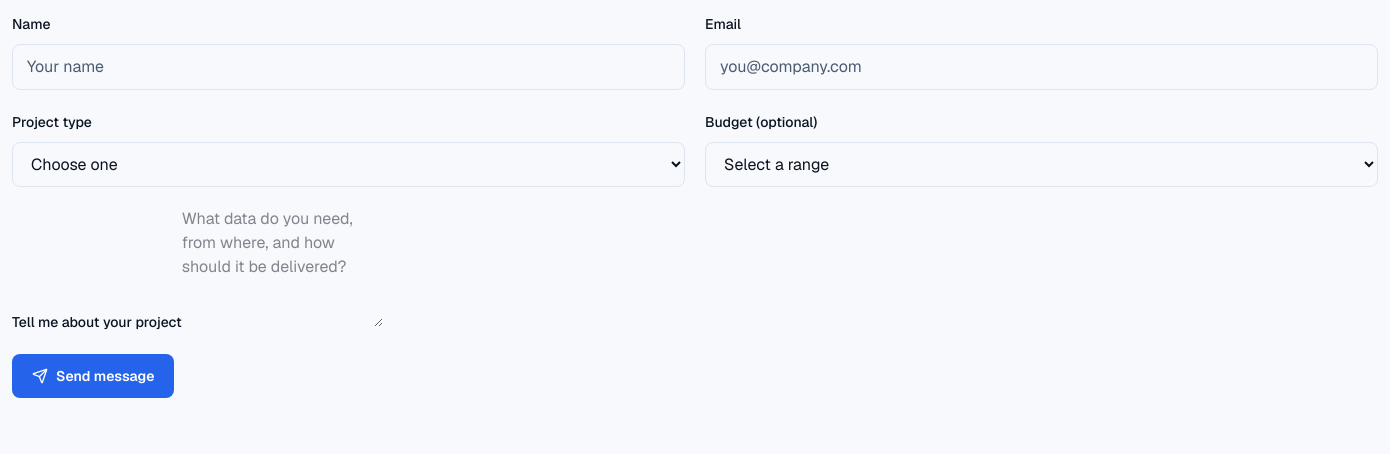
Test: ContactForm › falls back to the visitor's mail client when the server has no email configured
In the field labelled "Name": [348, 67] box [12,44,685,90], type "Test Person"
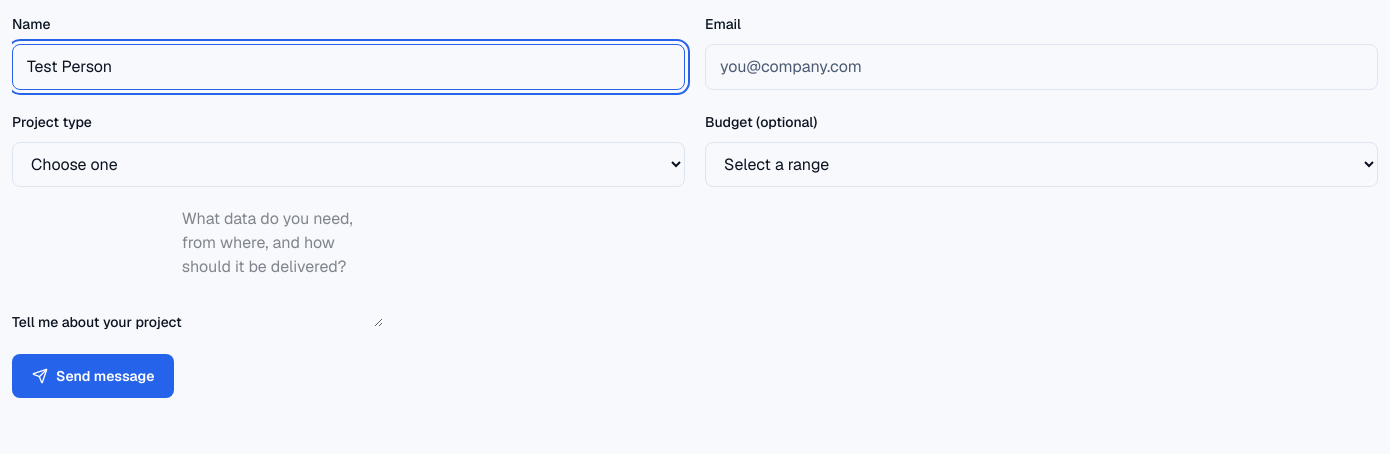
In the field labelled "Email": [1042, 67] box [705,44,1378,90], type "test@example.com"
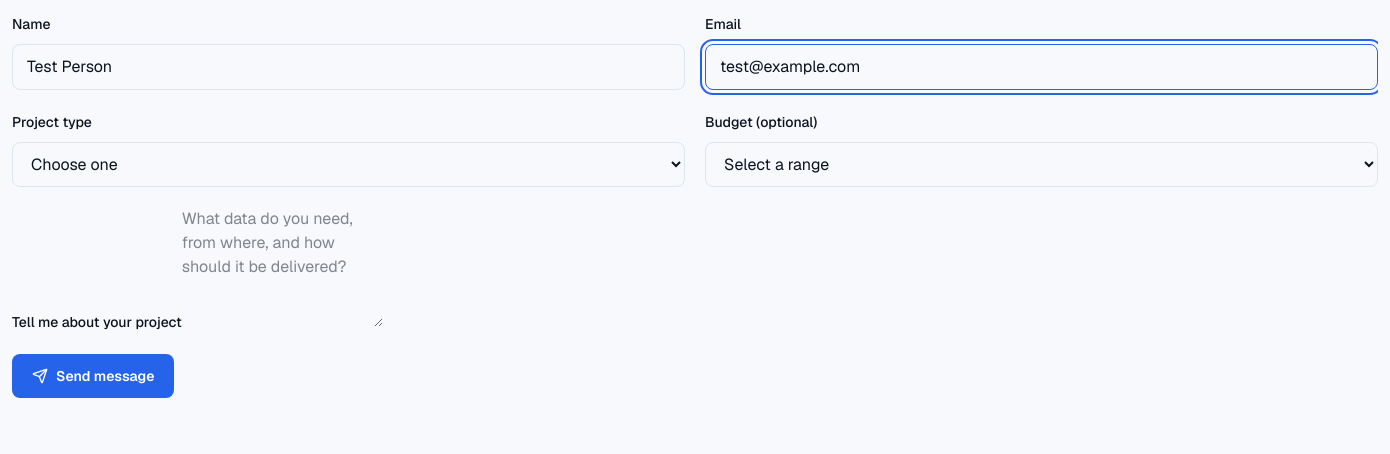
Select "Web scraping" in the dropdown labelled "Project type": [348, 164] box [12,142,685,187]
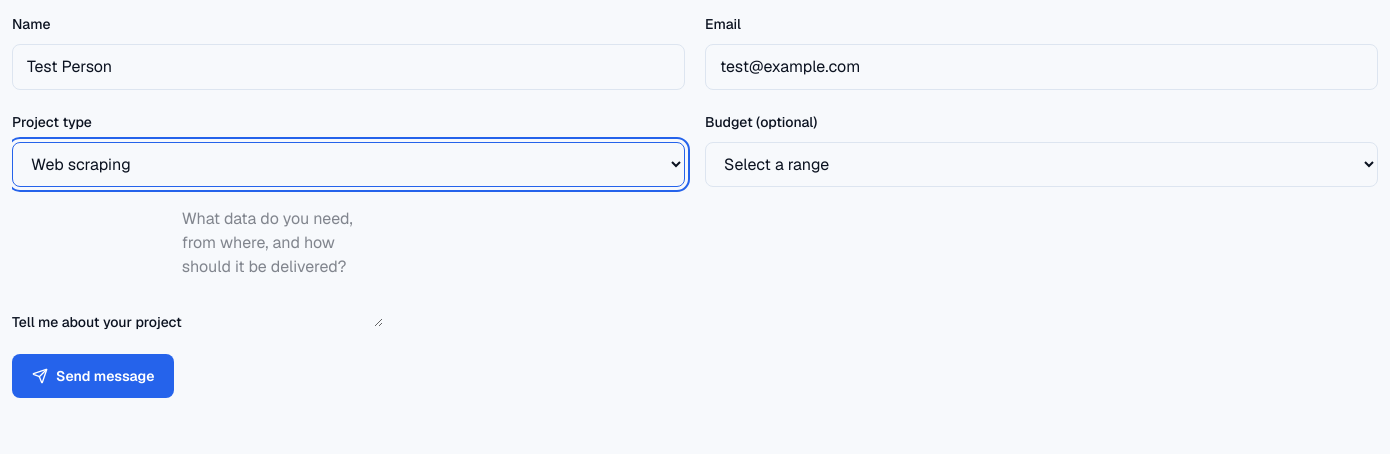
In the text box labelled "Tell me about your project": [282, 267] box [182,207,383,327], type "I need listings from ten portals delivered daily."
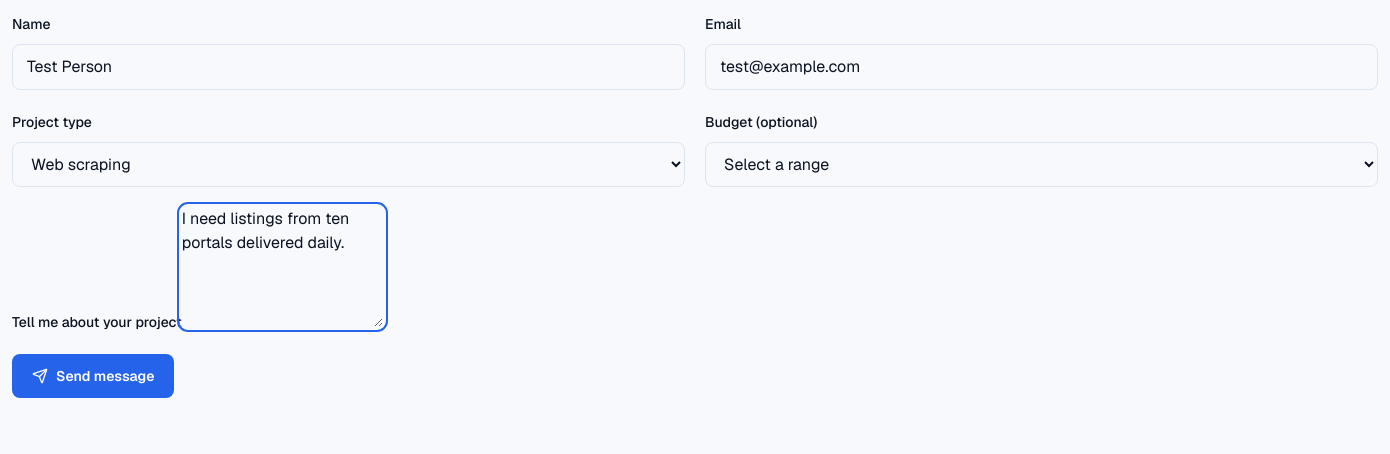
Click the button "Send message": [93, 376] box [12,354,174,398]
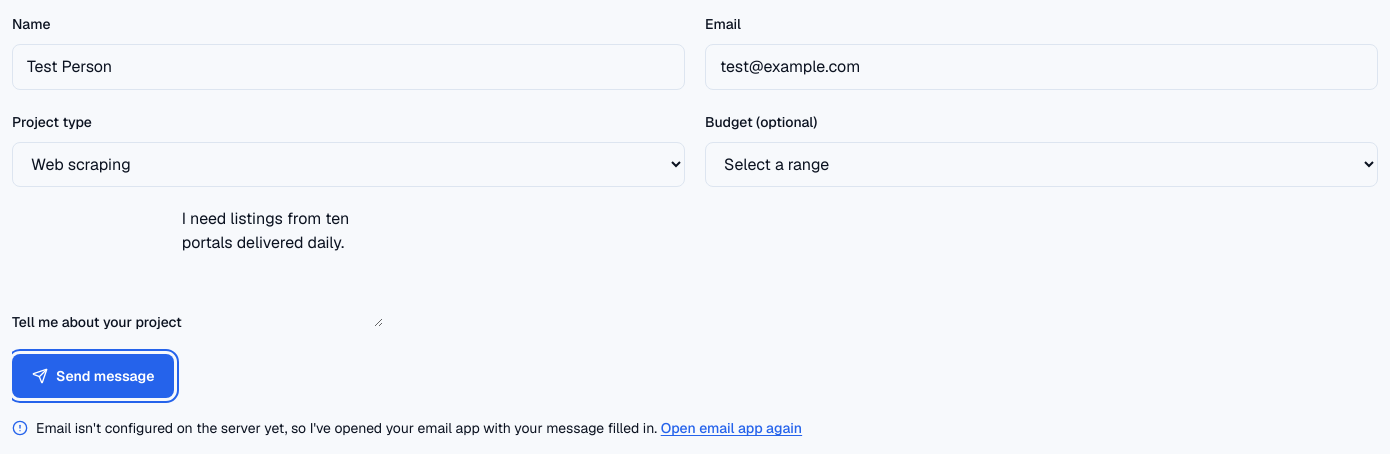
Expected: the text "Email isn't configured on the server yet" is shown, [36,419,657,437]
